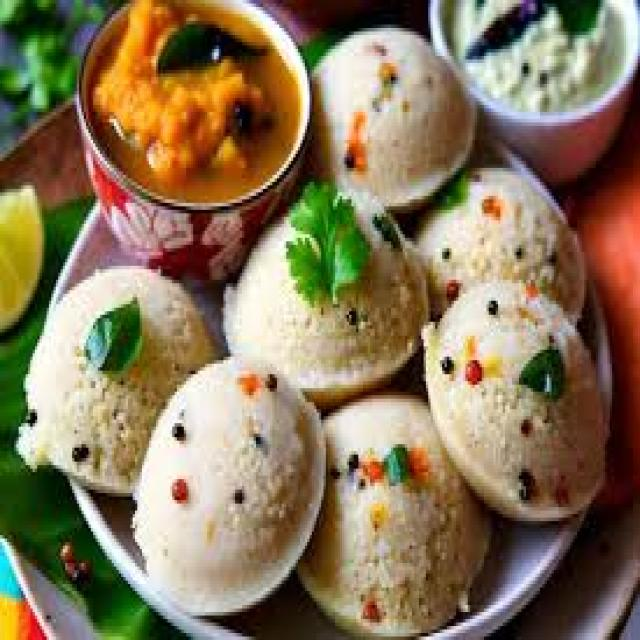IDLI: (133, 360, 323, 612), (298, 395, 489, 633), (16, 266, 216, 493), (226, 182, 428, 402), (424, 280, 605, 518), (312, 28, 475, 210), (419, 168, 577, 318)
